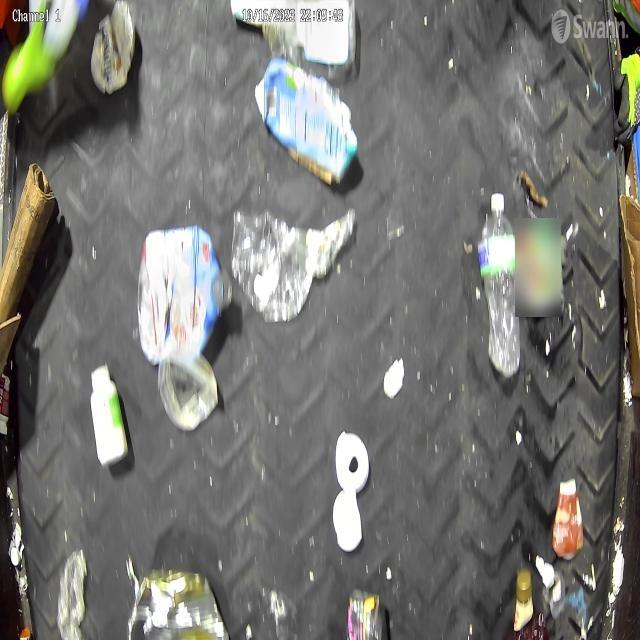non_white_jug: (254, 60, 358, 186)
plastic_bottle: (480, 192, 522, 378)
